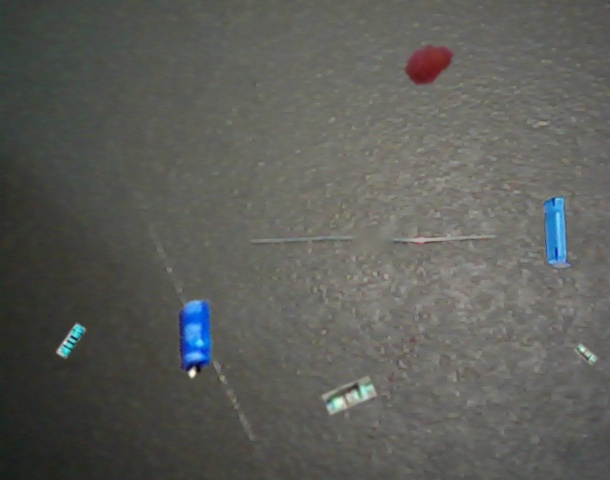capacitor: (177, 299, 213, 378), (543, 196, 572, 269), (405, 45, 454, 85)
resistor: (322, 376, 377, 415), (56, 323, 86, 358), (574, 343, 597, 365)
